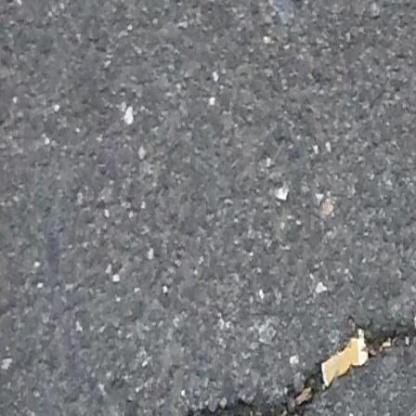Cracks: (169, 315, 416, 415)
